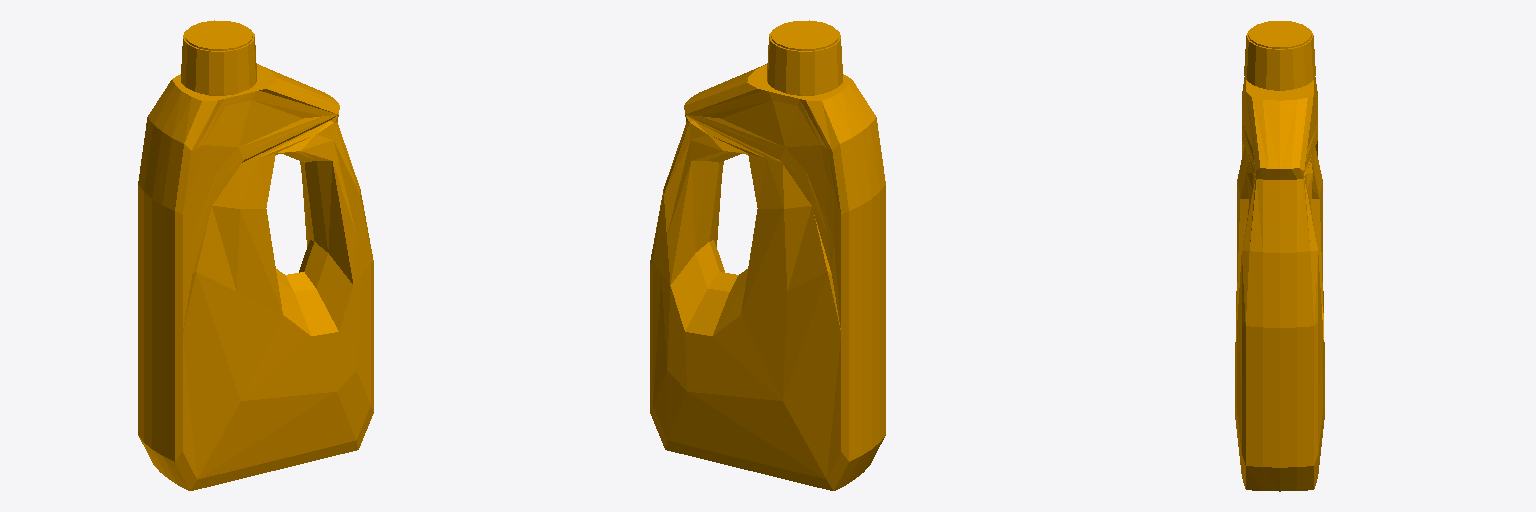
URDF robot description (cascade.off):
<?xml version="1.0"?>
<robot name="cascade.off">
	<link name="cascade.off">
		<inertial>
			<!--origin xyz="0 0 0" rpy="0 0 0" /-->
			<mass value="0.5" />
			<!--inertia ixx="0.000360" ixy="0" ixz="0" iyy="0.0000615" iyz="0" izz="0.00036" /-->
		</inertial>
    		<visual>
	      		<!--origin rpy="0 0 0" xyz="0 0 0"/-->
      			<geometry>
        			<mesh filename="cascade.off.obj"/>
      			</geometry>
         	</visual>
    		<collision>
      			<!--origin rpy="0 0 0" xyz="0 0 0"/-->
      			<geometry>
        			<mesh filename="cascade.off.obj"/>
      			</geometry>
    		</collision>
	</link>
</robot>

--- What the picture shows (computed from the rendered views, not written in the file) ---
Views: 3 orthographic renders of the robot side by side, from view 1: azimuth 30°, elevation 25°; view 2: azimuth 150°, elevation 25°; view 3: azimuth 270°, elevation 25°.
Model cascade.off with 1 links and 0 joints (none), rooted at cascade.off, posed all joints at 0.
Visible links, largest first — view 1: cascade.off; view 2: cascade.off; view 3: cascade.off.
Boxes of the visible links, box(x1,y1,x2,y2) form: cascade.off: box(138, 20, 373, 490); cascade.off: box(650, 20, 885, 490); cascade.off: box(1235, 21, 1324, 491).
Size in the robot's own frame: 12.98 by 5.28 by 25.84 metres.
1 mesh visuals loaded from 1 distinct referenced files (1 OBJ).